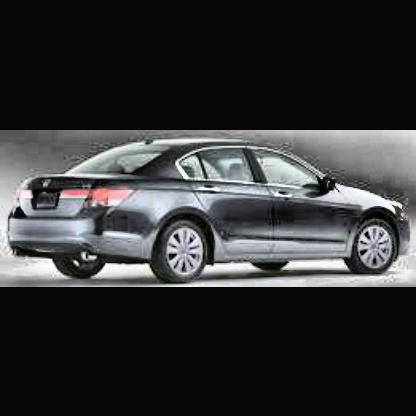Honda Accord Sedan 2012: (8, 139, 416, 287)
